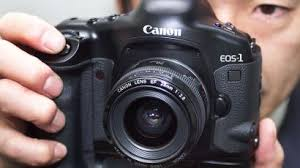camera: (49, 23, 259, 157)
